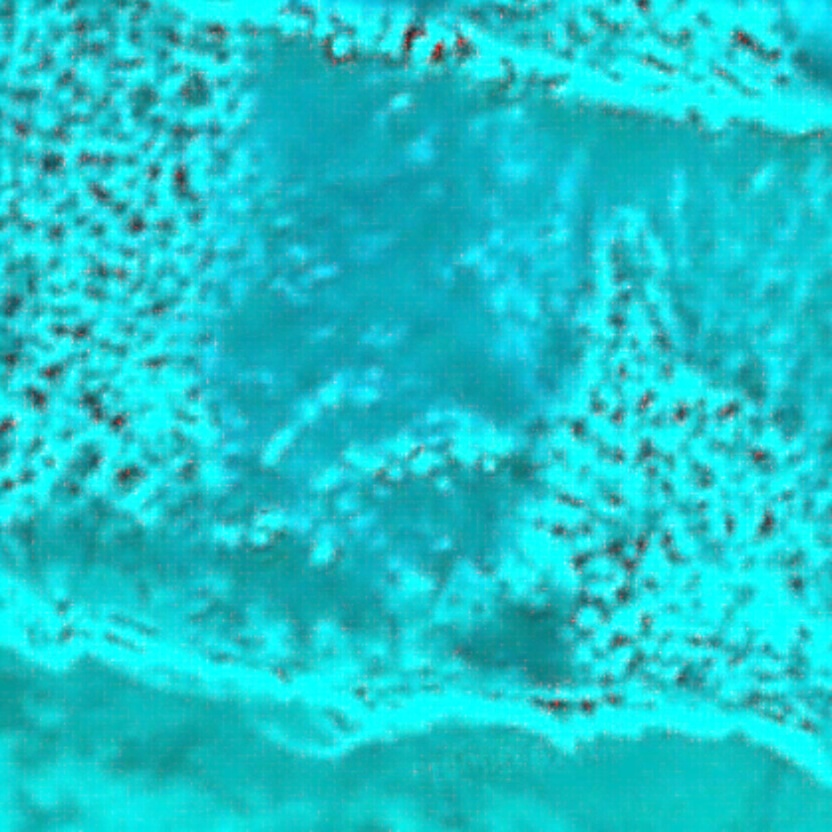rip_current: (149, 72, 632, 656)
